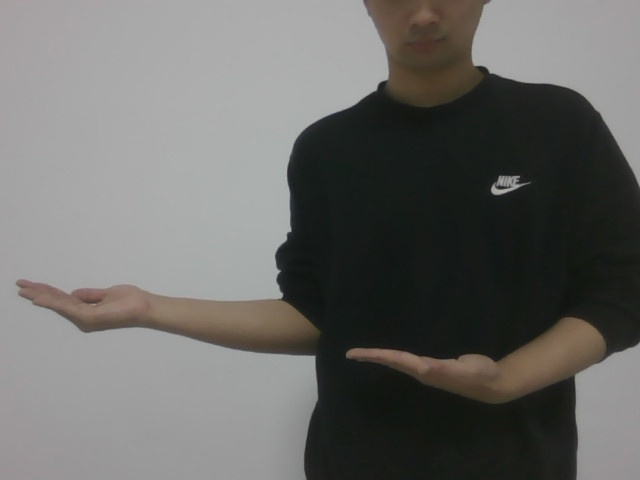please: (14, 260, 512, 416)
